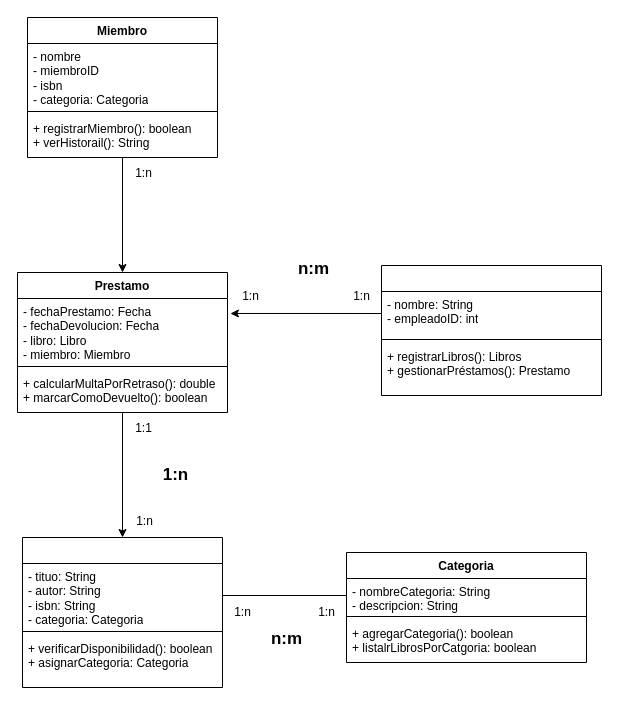
This 619x708 diagram has some shape labels left out. The shapes that lost their labels are listed below. From the top down, each one's box as (x1, y1, x2, y2) in pixels, then its label:
(380, 264, 602, 396): Bibliotecario
(22, 536, 222, 688): Libro
